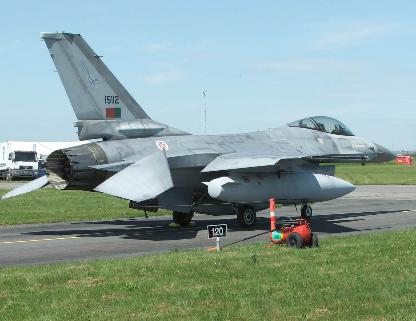F14: (0, 30, 412, 229)
